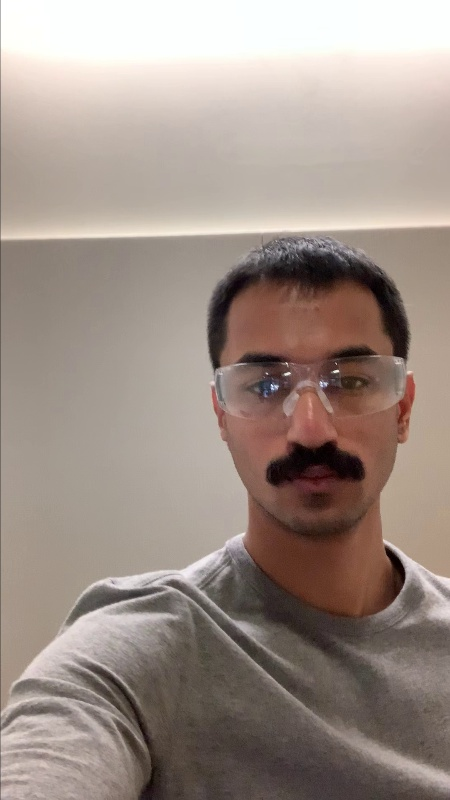glasses: (212, 350, 413, 422)
